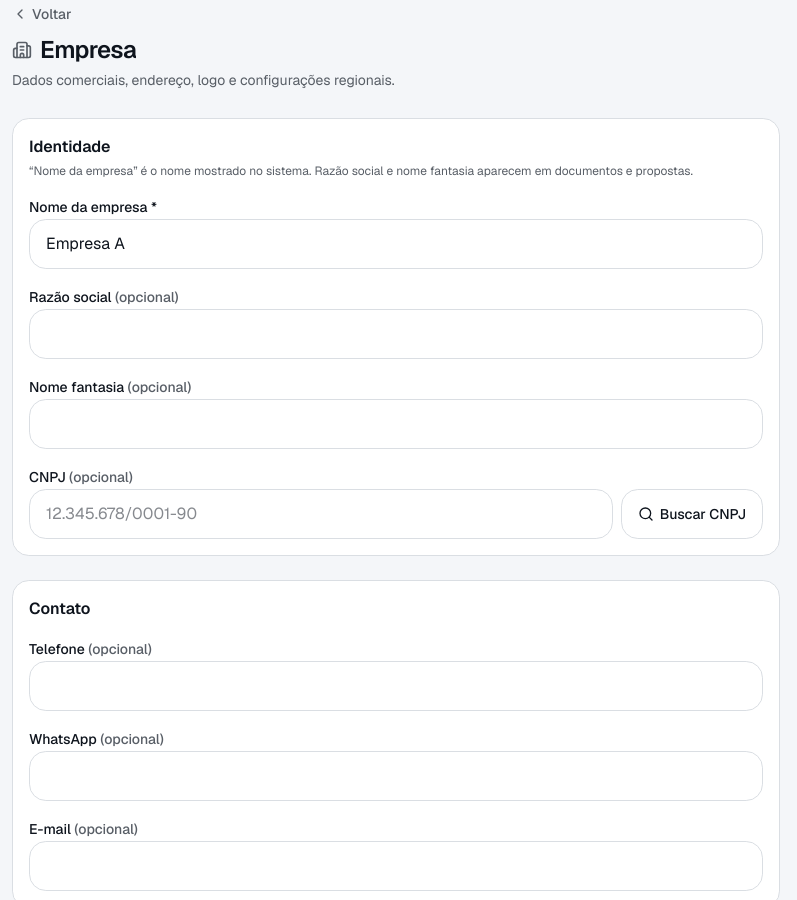
Test: CompanyProfilePage CNPJ lookup (FRONTEND-COMPANY-PROFILE-01 §54 CJ1-CJ8) › CJ2: fills only empty fields, never overwrites what's already typed
The width and height of the screenshot is (797, 900).
Expected: the field labelled "Nome da empresa *" is shown, [29,219,763,269]
In the field labelled "Nome fantasia (opcional)": (396, 424) [29,399,763,449], type "Já Digitado Pelo Usuário"
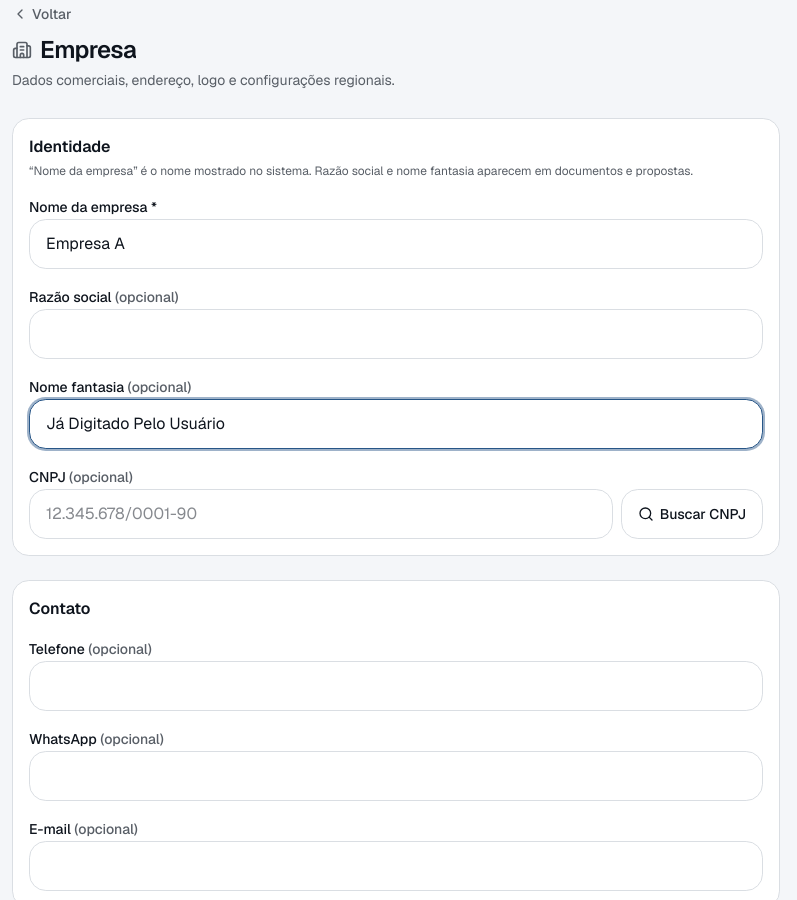
In the field labelled "CNPJ (opcional)": (321, 514) [29,489,613,539], type "19131243000197"
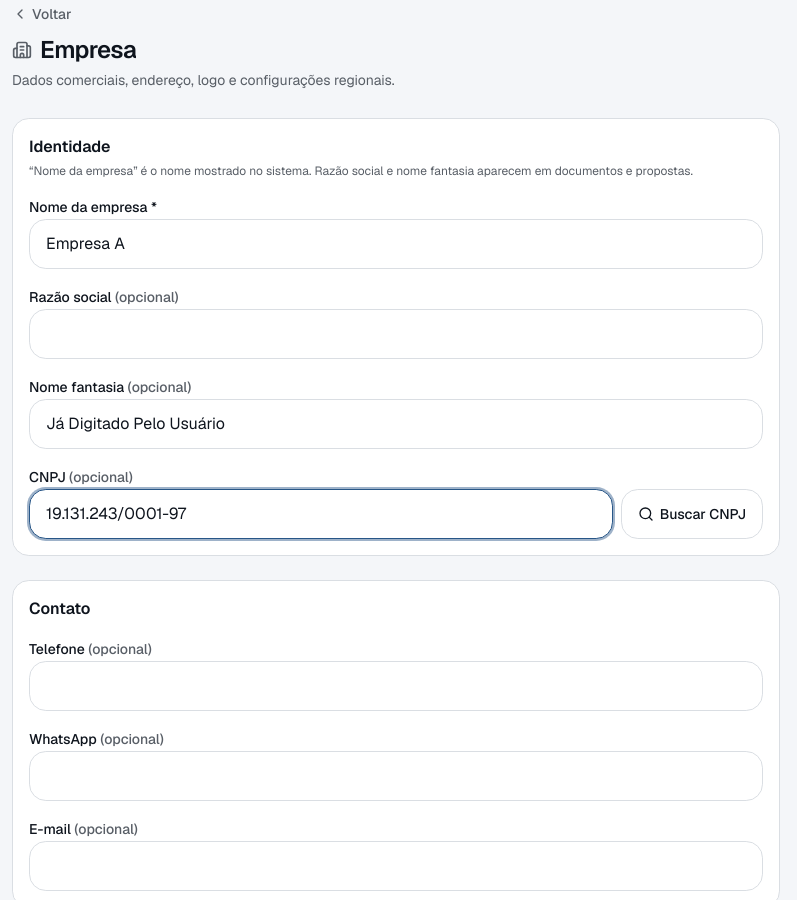
Click the button "Buscar CNPJ": click(692, 514) [621,489,763,539]
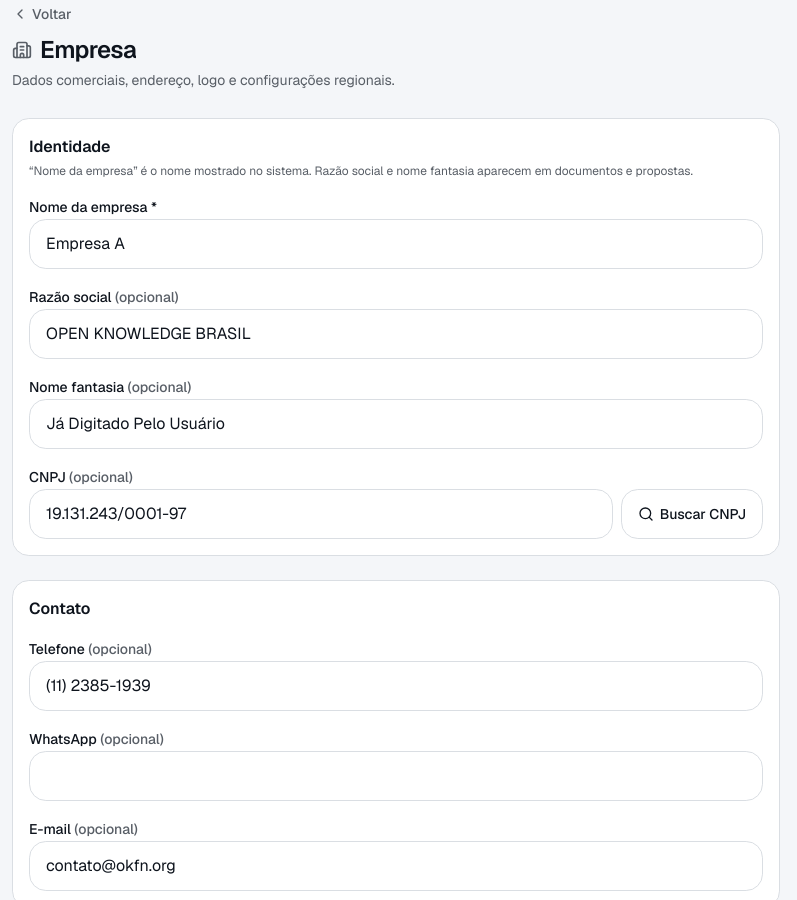
Expected: the field labelled "Razão social (opcional)" holds "OPEN KNOWLEDGE BRASIL", [29,309,763,359]
